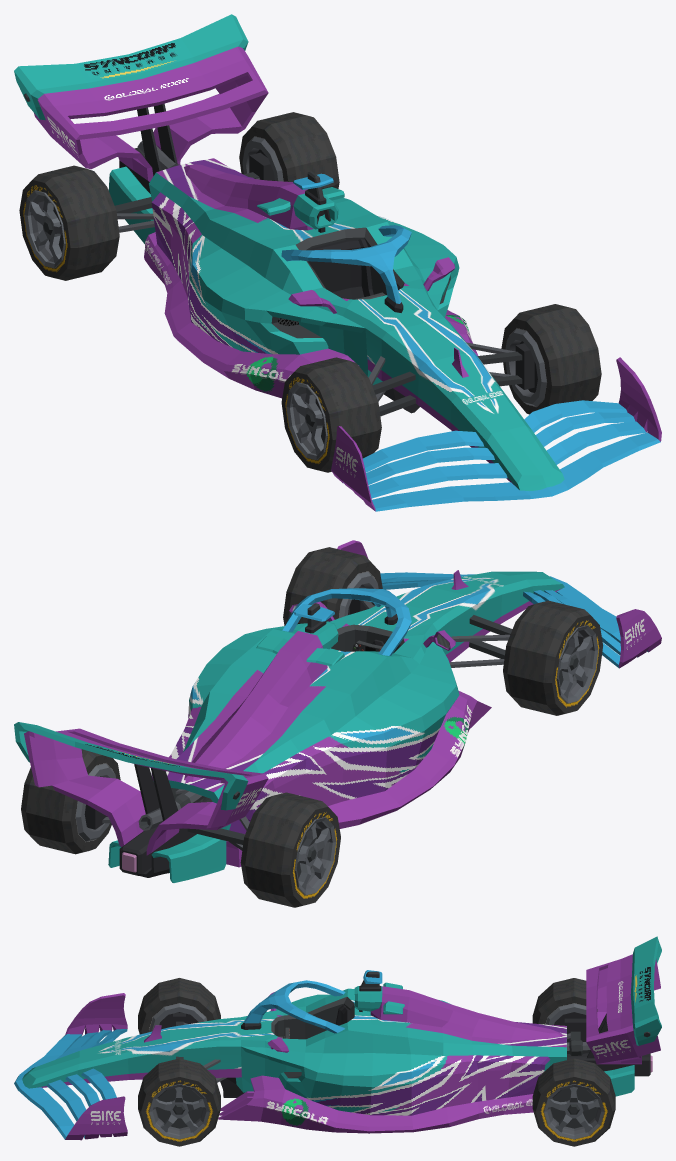
The model's file is redline_pro_openwheeler.glb.
3 renders of one model, top to bottom at view 1: azimuth 30°, elevation 25°; view 2: azimuth 150°, elevation 25°; view 3: azimuth 270°, elevation 25°, orthographic. The views are drawn at different scales.
Visible parts, largest first — view 1: Body, Wheel_RR, Wheel_FR, Wheel_FL, Wheel_RL; view 2: Body, Wheel_FR, Wheel_RR, Wheel_RL, Wheel_FL; view 3: Body, Wheel_RL, Wheel_FL, Wheel_FR, Wheel_RR.
Part boxes in pixels (bbox=[...]): Body: bbox=[14, 14, 661, 511]; Wheel_RR: bbox=[19, 165, 119, 280]; Wheel_FR: bbox=[281, 357, 381, 472]; Wheel_FL: bbox=[501, 304, 601, 414]; Wheel_RL: bbox=[239, 112, 339, 189]; Body: bbox=[14, 540, 661, 882]; Wheel_FR: bbox=[503, 600, 603, 715]; Wheel_RR: bbox=[240, 792, 340, 907]; Wheel_RL: bbox=[21, 749, 120, 854]; Wheel_FL: bbox=[283, 547, 382, 625]; Body: bbox=[14, 936, 661, 1140]; Wheel_RL: bbox=[532, 1058, 615, 1146]; Wheel_FL: bbox=[138, 1058, 220, 1146]; Wheel_FR: bbox=[138, 978, 220, 1034]; Wheel_RR: bbox=[532, 978, 597, 1025].
Size of the model in its own units: 1.72 by 0.9593 by 4.4.
2 materials, 2 textured.
